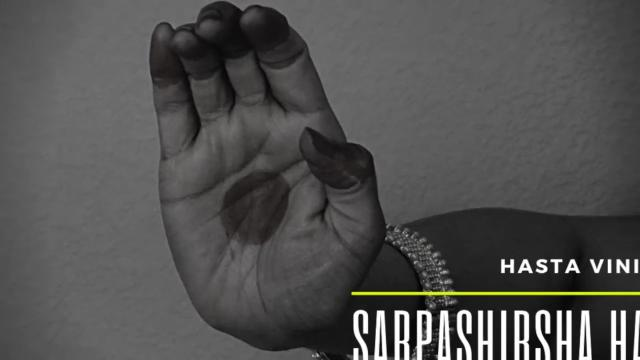sarpsheesh: (126, 3, 402, 349)
